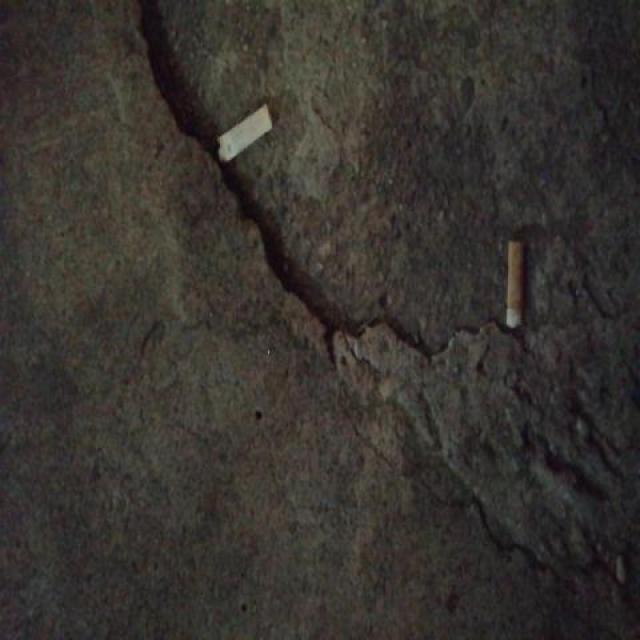non-organic waste: (214, 96, 278, 172), (502, 234, 526, 333)
